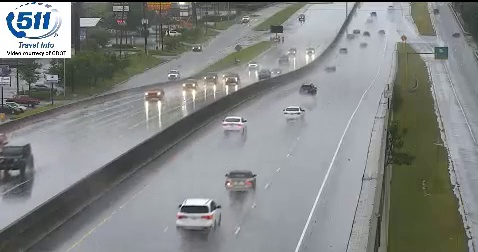car: (176, 199, 221, 230), (225, 171, 256, 192), (222, 117, 246, 134), (283, 106, 303, 121), (299, 82, 316, 96)
